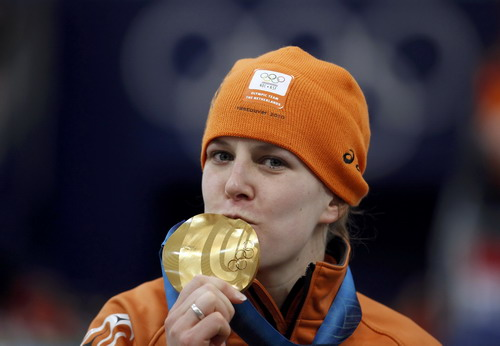face: (198, 118, 328, 262)
